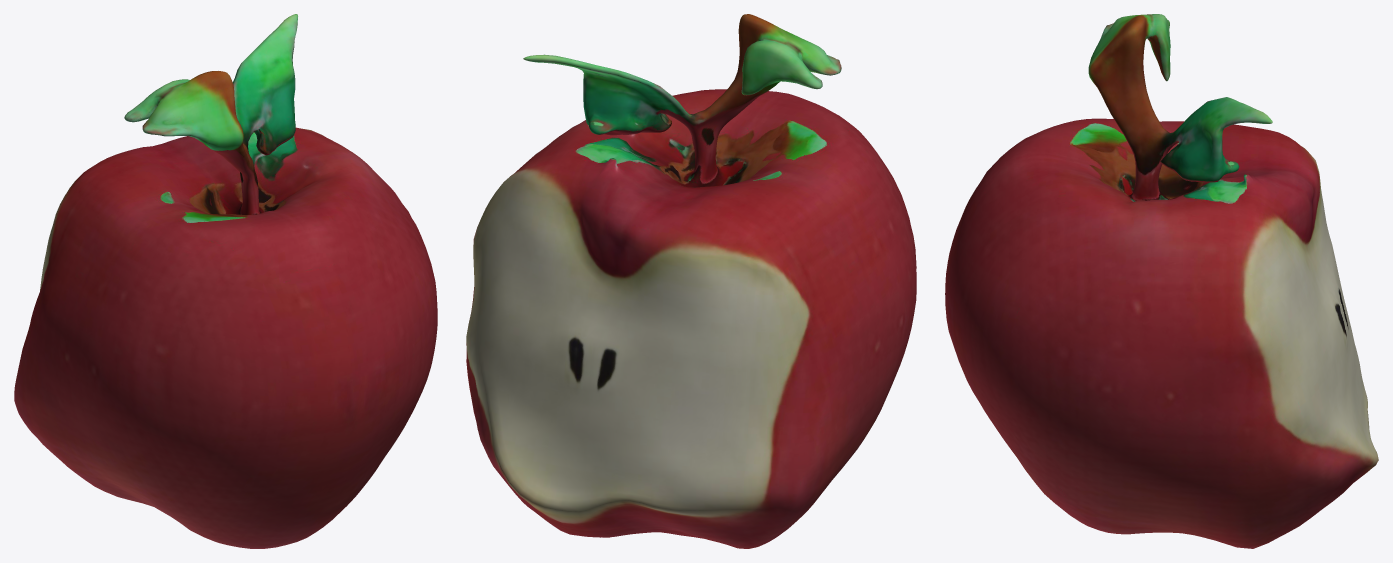
File: 50d228a8f6a9_Cartoon_style_apple.fbx
3 renders of one model, left to right at view 1: azimuth 30°, elevation 25°; view 2: azimuth 150°, elevation 25°; view 3: azimuth 270°, elevation 25°, orthographic. The views are drawn at different scales.
Parts seen in each view (by area): view 1: mesh; view 2: mesh; view 3: mesh.
Boxes of the visible parts, x1,y1,x2,y2 form: mesh: [14, 14, 437, 548]; mesh: [466, 14, 916, 548]; mesh: [945, 14, 1378, 548].
Size of the model in its own units: 76.76 by 99.91 by 82.8.
